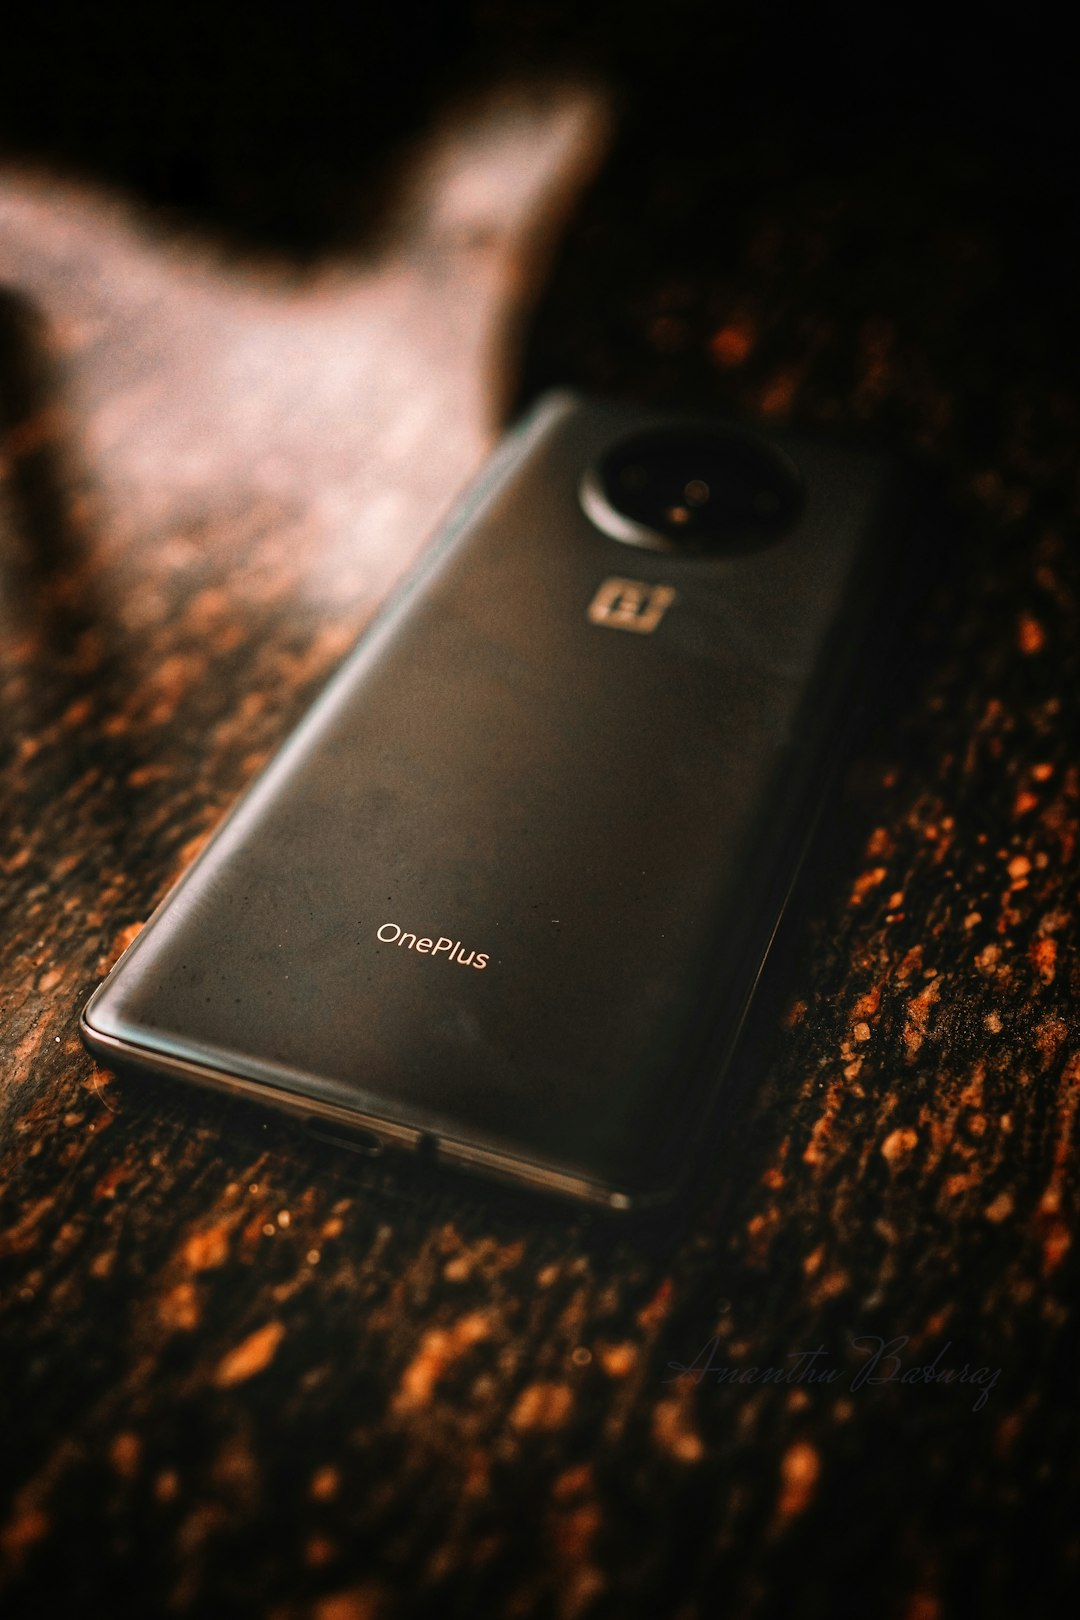phone: (76, 380, 939, 1220)
